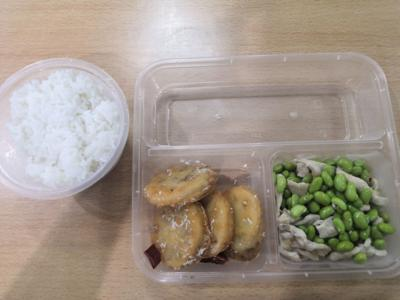rice: (1, 55, 125, 202)
